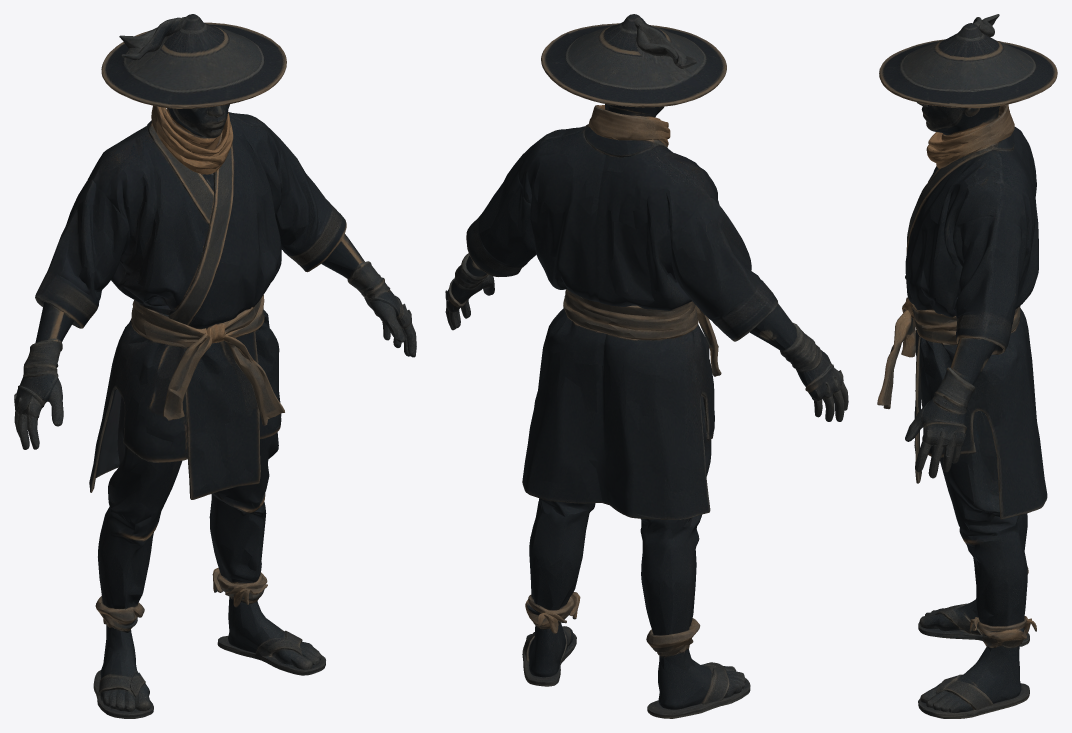
File: forest_bandit_refine.glb
3 renders of one model, left to right at view 1: azimuth 30°, elevation 25°; view 2: azimuth 150°, elevation 25°; view 3: azimuth 270°, elevation 25°, orthographic. The views are drawn at different scales.
Size of the model in its own units: 1.17 by 1.9 by 0.4844.
1 material, 1 textured.
